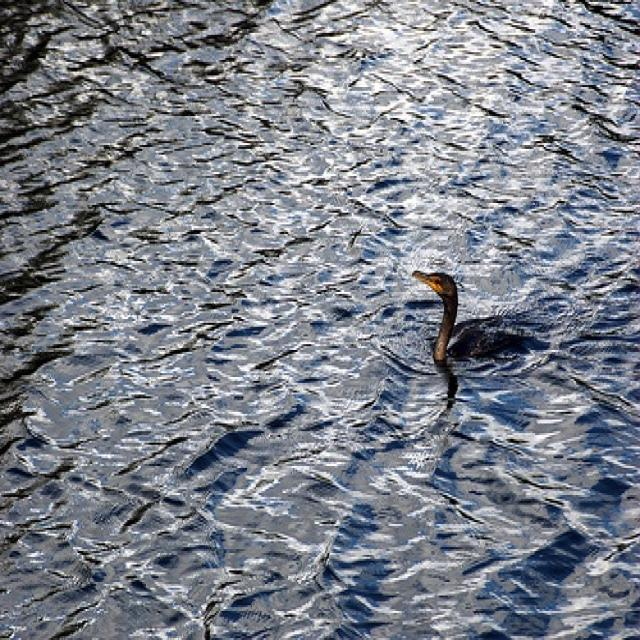bird: (411, 267, 531, 363)
